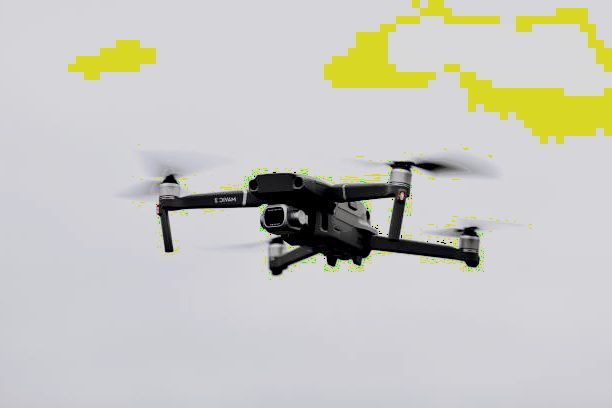Drone: (110, 135, 538, 280)
